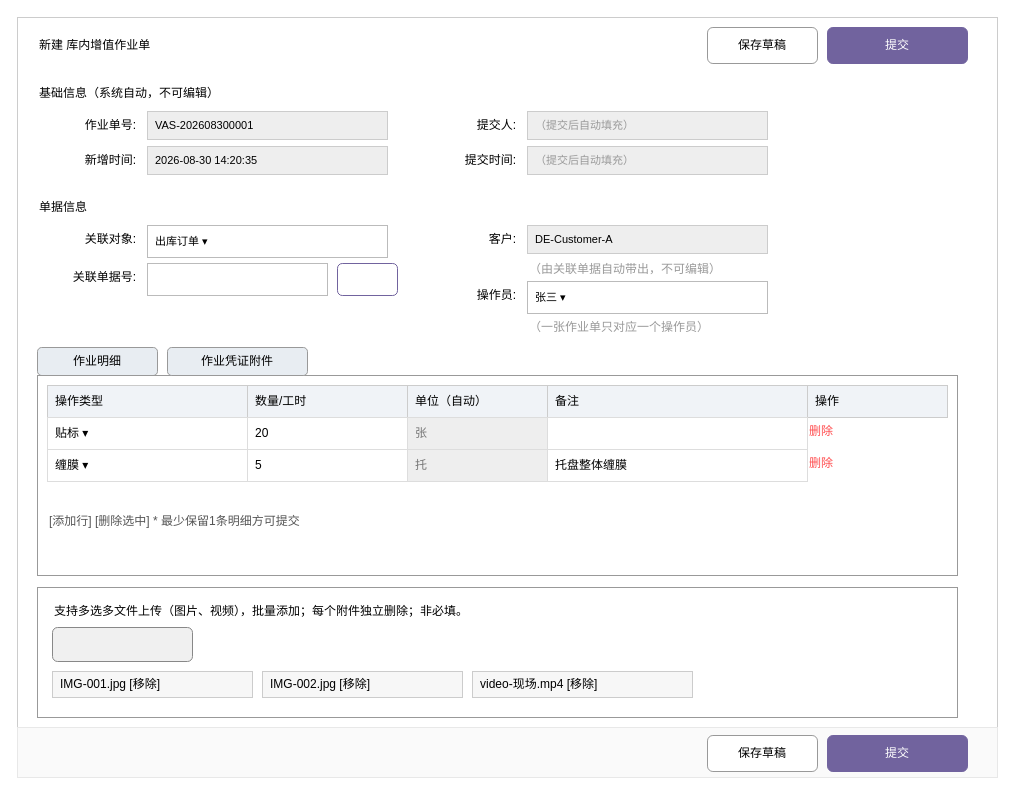
This 1015x795 diagram has some shape labels left out. The centre of each missing label's shape, as x and y in pixels:
OUT-00123 ✓: the point at 237,279
【选择多个文件】: the point at 122,644
扫码: the point at 367,279
